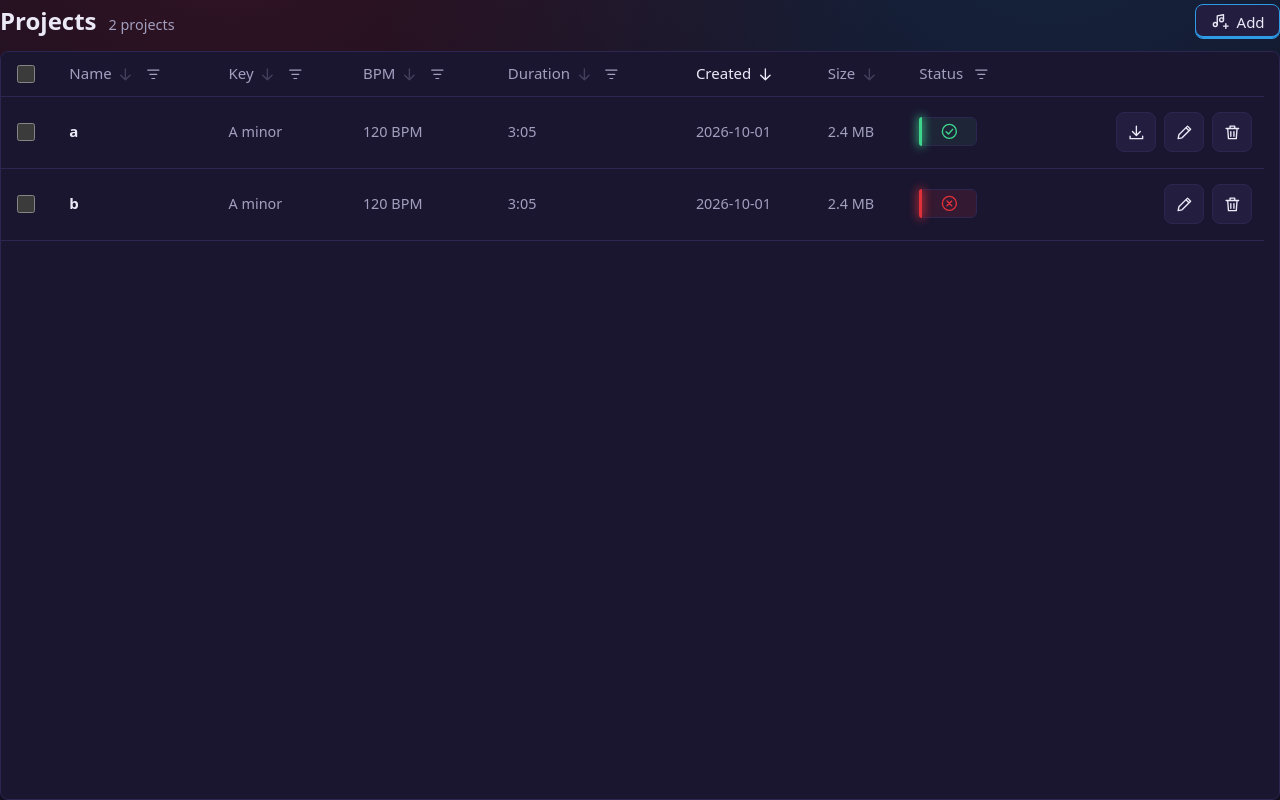
Test: Projects table › deletes one row after a confirm and reloads
The width and height of the screenshot is (1280, 800).
Check: the link "a" is shown, box [69,121,78,141]
Click the button named "Delete a" at (1232, 132), box [1212,112,1252,152]
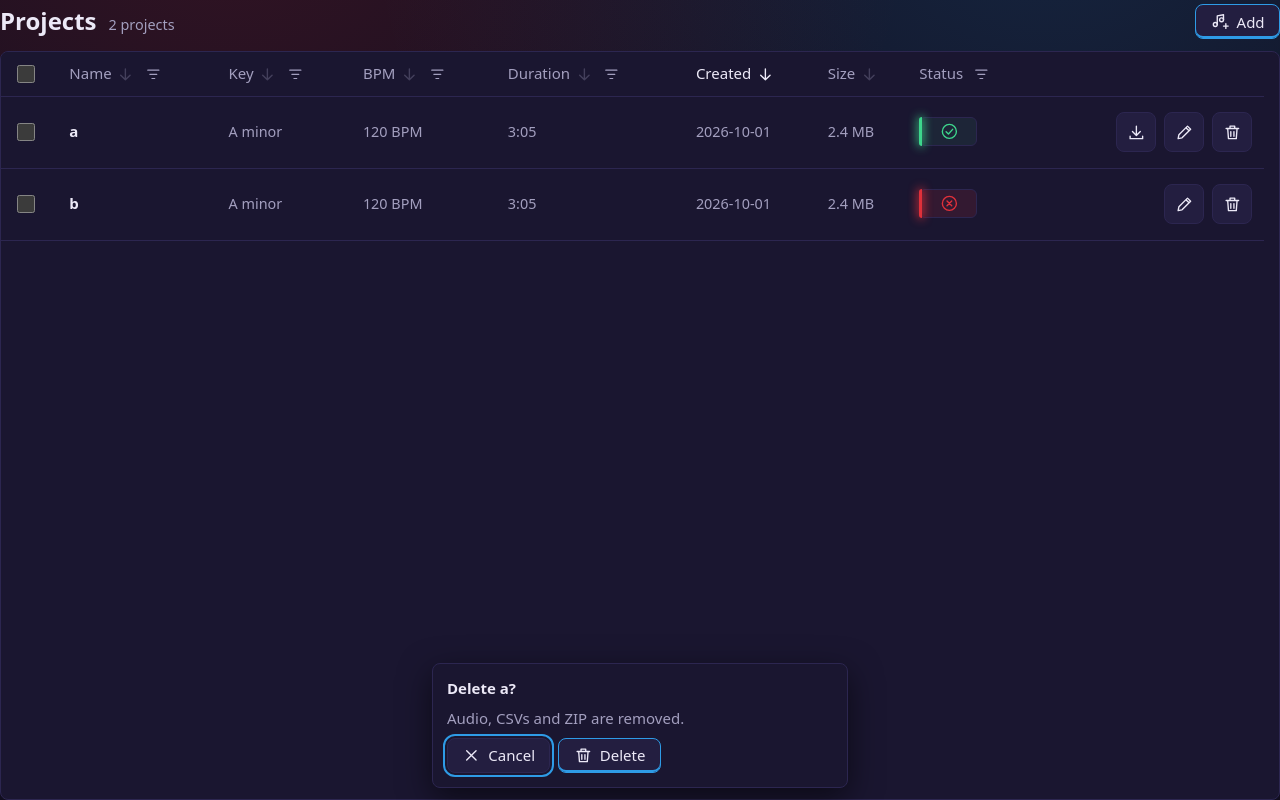
Click the button "Delete" at (610, 755), box [558,738,661,773]
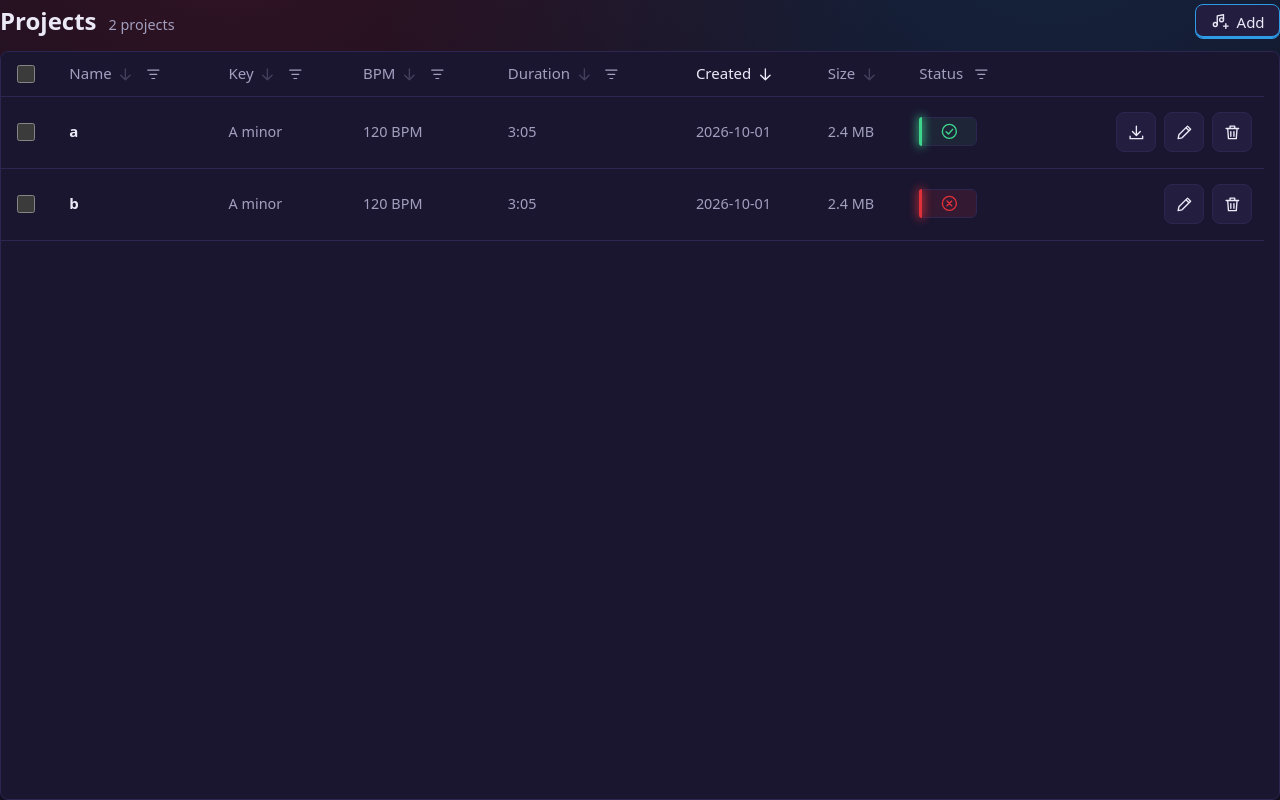
Check: the dialog is gone
